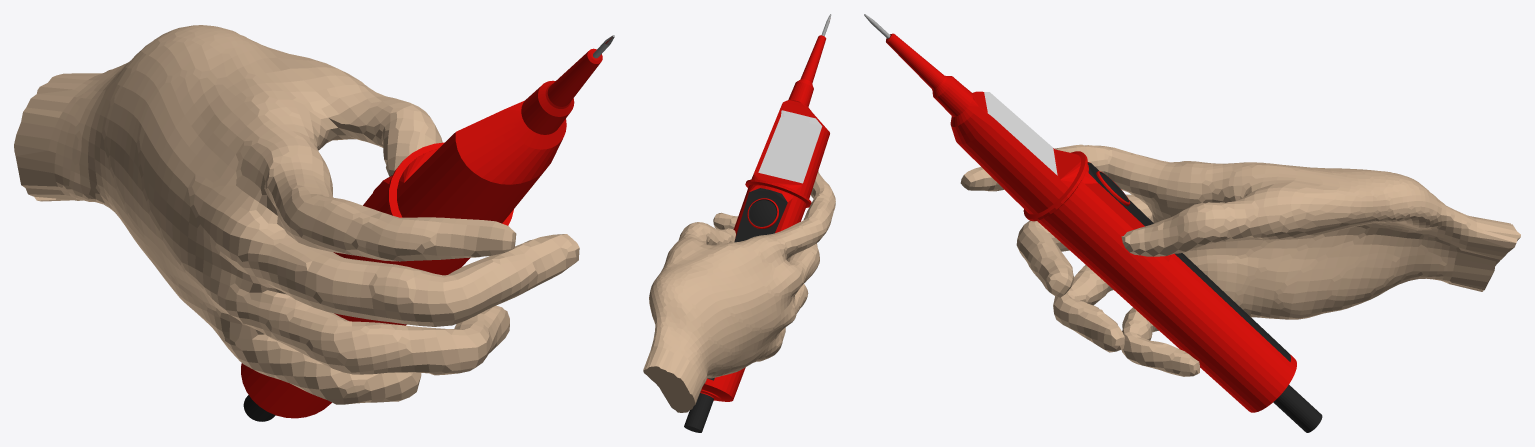
File: hand-with-duspol-1.fbx
3 views of the same model, side by side, from view 1: azimuth 30°, elevation 25°; view 2: azimuth 150°, elevation 25°; view 3: azimuth 270°, elevation 25° (orthographic). The views are drawn at different scales.
Visible parts, largest first — view 1: Object03.008, duspol-R_duspol; view 2: Object03.008, duspol-R_duspol, button_Sphere.003; view 3: Object03.008, duspol-R_duspol.
Part boxes in pixels (box(x1,y1,x2,y2)): Object03.008: box(14, 25, 579, 404); duspol-R_duspol: box(241, 35, 614, 421); Object03.008: box(643, 171, 835, 412); duspol-R_duspol: box(684, 14, 831, 432); button_Sphere.003: box(747, 198, 778, 228); Object03.008: box(960, 144, 1520, 376); duspol-R_duspol: box(864, 14, 1322, 432).
Size of the model in its own units: 307 by 685 by 947.
